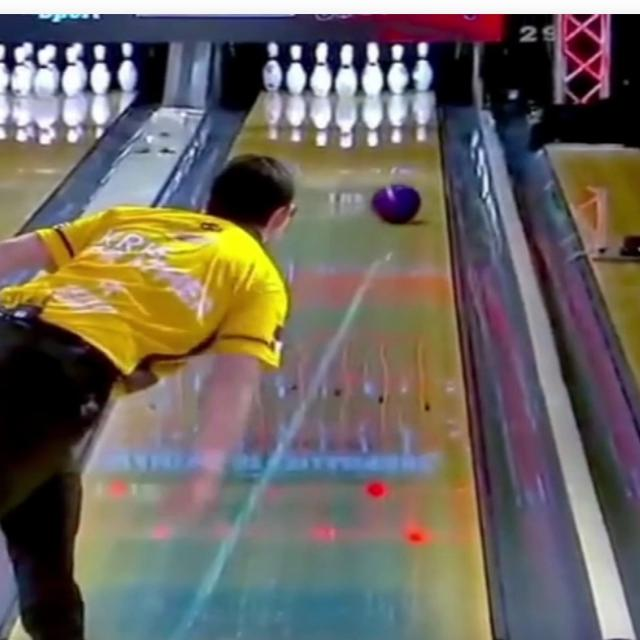alley: (78, 91, 489, 639)
balls: (372, 184, 420, 223)
bottle: (262, 42, 433, 98)
